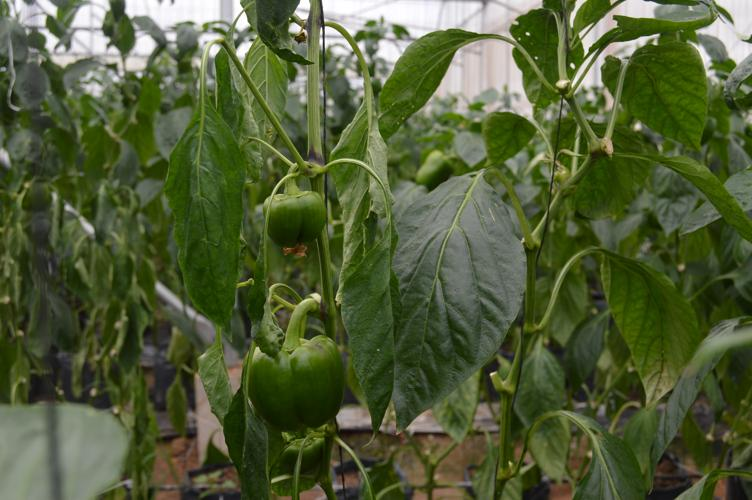BellPepper: (243, 335, 338, 421), (263, 191, 323, 244), (276, 437, 328, 471)
